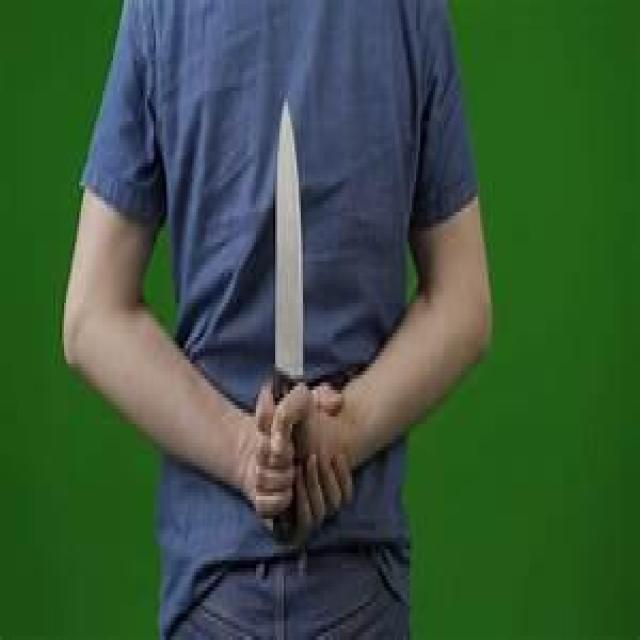Knife: (256, 83, 326, 555)
